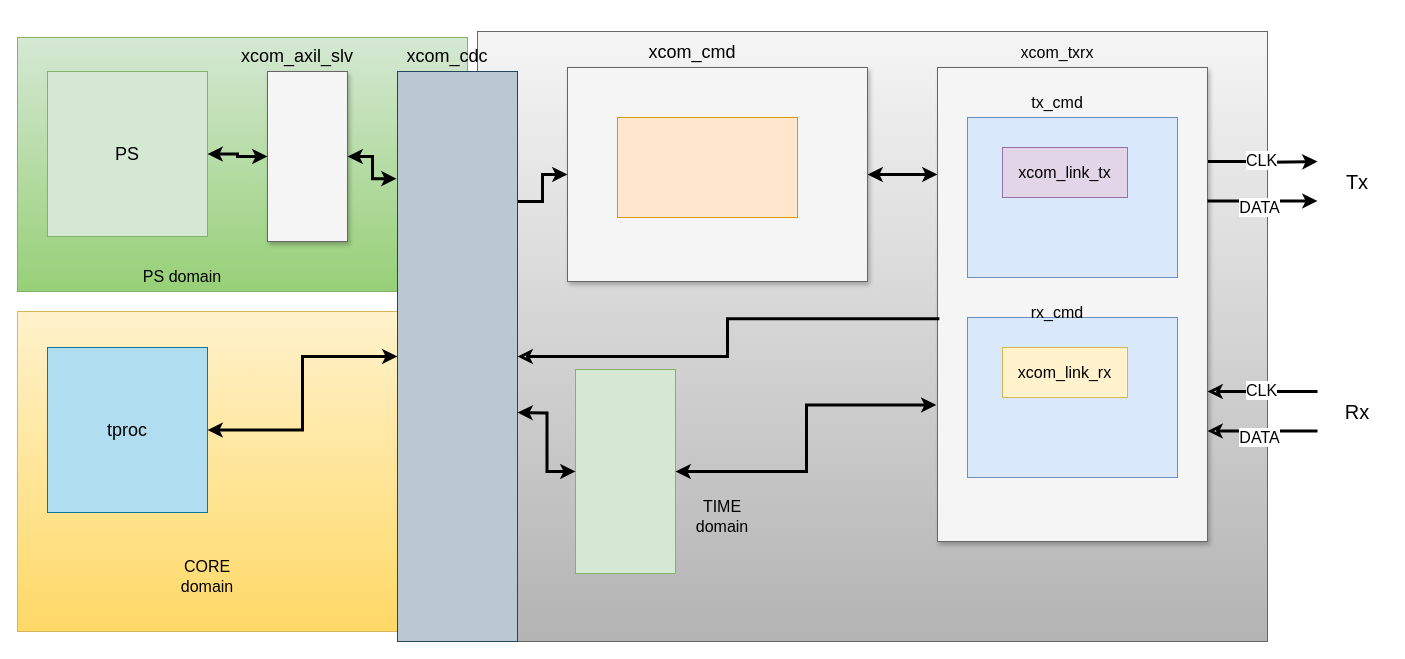
Some shapes in this 1405 by 659 pixel diagram are drawn without their labels. Each missing label, with the centre of its shape:
"16x32 memory" belongs at (625,471).
"req_ack_cmd" belongs at (707,167).
